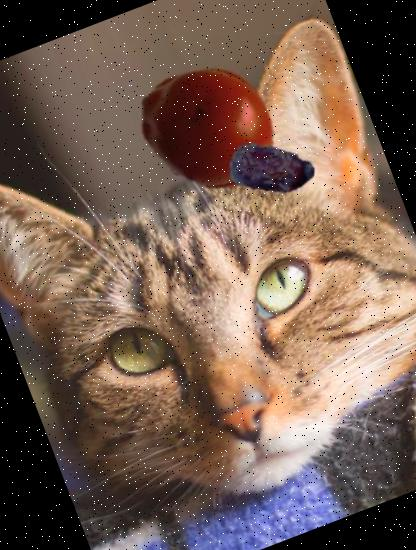Dates: (217, 114, 328, 224)
Tomato: (117, 34, 299, 217)
